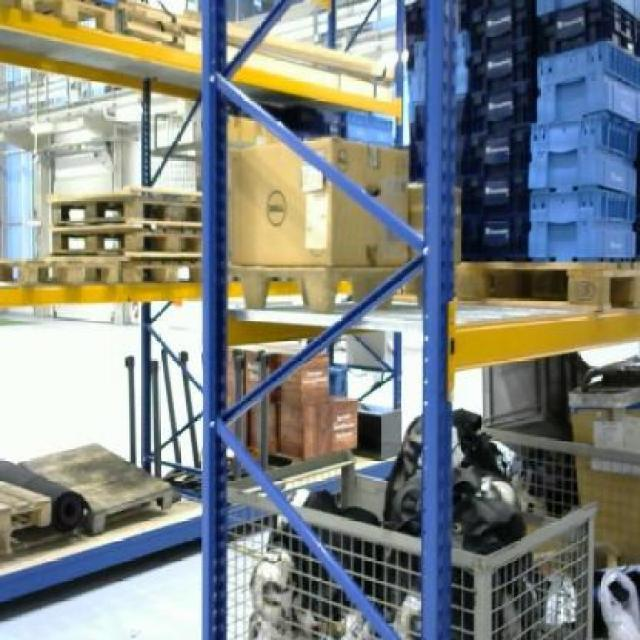box: (226, 134, 409, 268), (279, 405, 333, 458), (279, 352, 330, 406), (328, 397, 359, 448)
